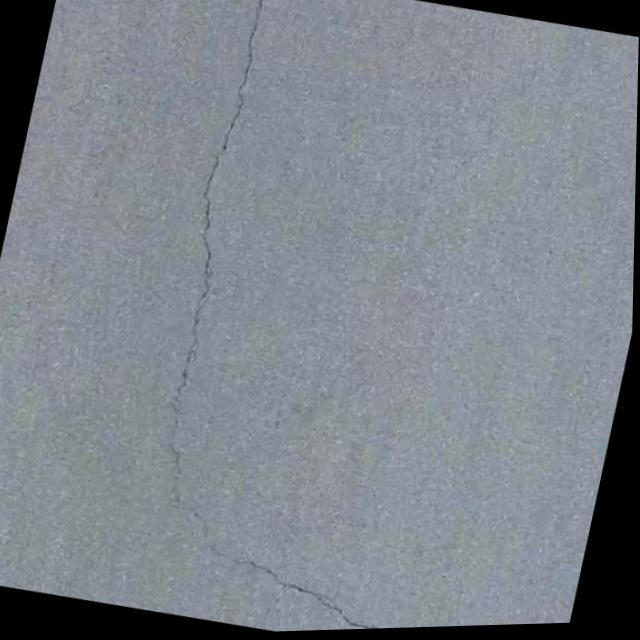Crack: (110, 0, 310, 615)
